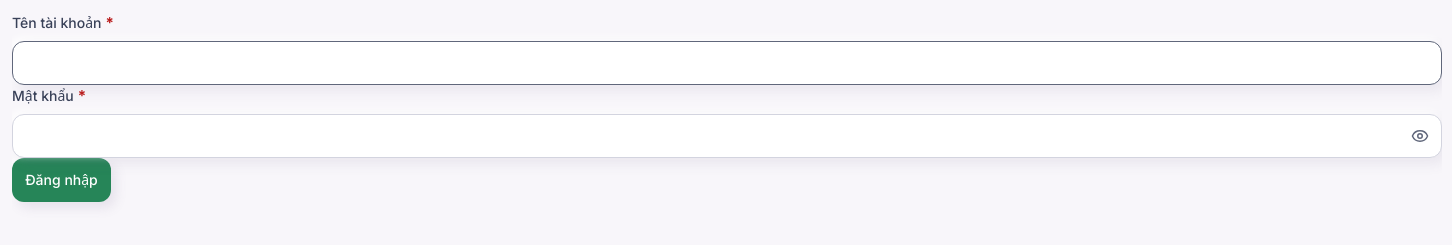
it: LoginForm › keeps credentials and focuses a readable error when the server returns HTML
This screenshot has width=1452, height=245.
Type "test.employee" into the field labelled "Tên tài khoản *" at (727, 63), box left=12, top=41, right=1442, bottom=85
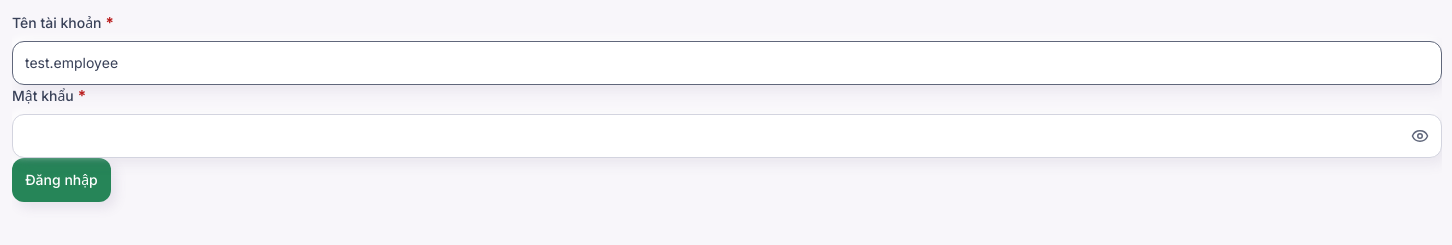
Type "test-password" into the password field labelled "Mật khẩu *" at (727, 136), box left=12, top=114, right=1442, bottom=158
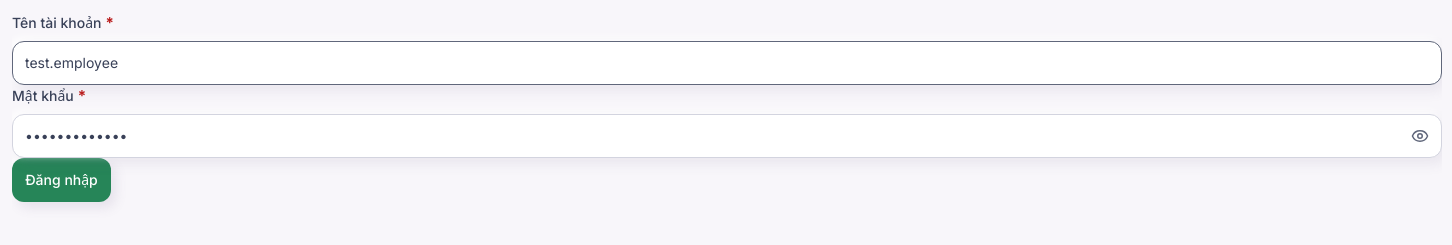
Submit the form "Đăng nhập"
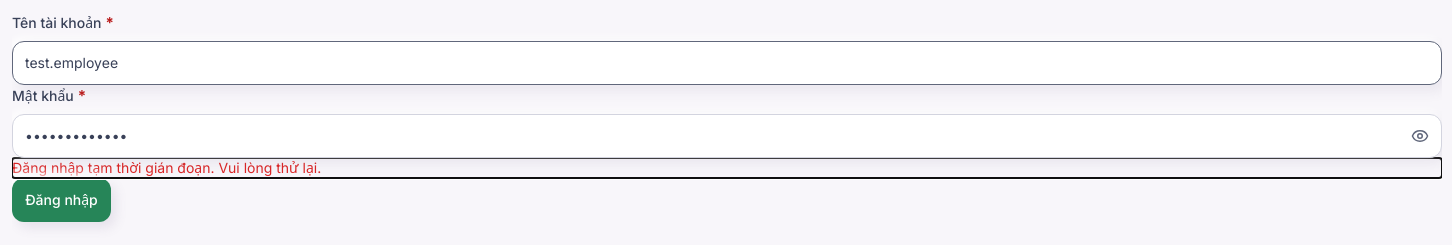
Expected: the button "Đăng nhập" is enabled, left=12, top=178, right=111, bottom=222
Now the message reads "Đăng nhập tạm thời gián đoạn. Vui lòng thử lại.", box left=12, top=159, right=321, bottom=176
